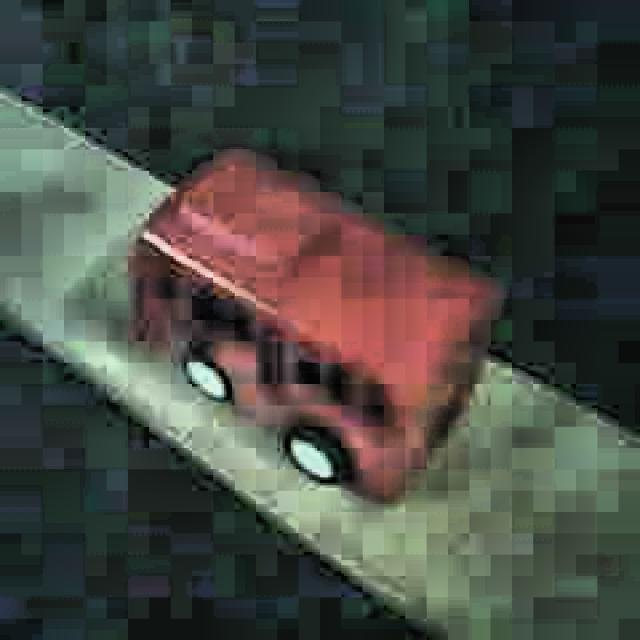bus: (124, 150, 500, 506)
